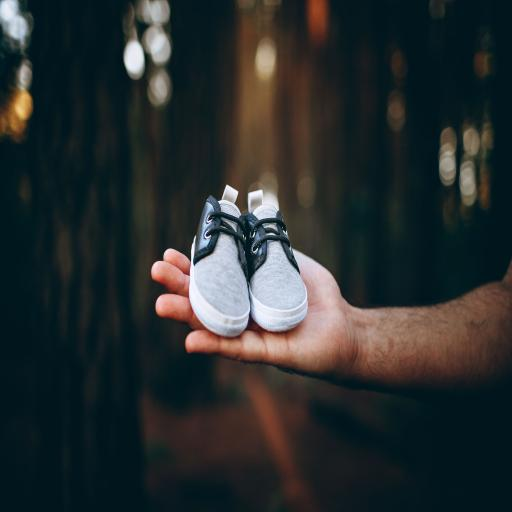shoe: (190, 186, 250, 336), (243, 191, 307, 331)
